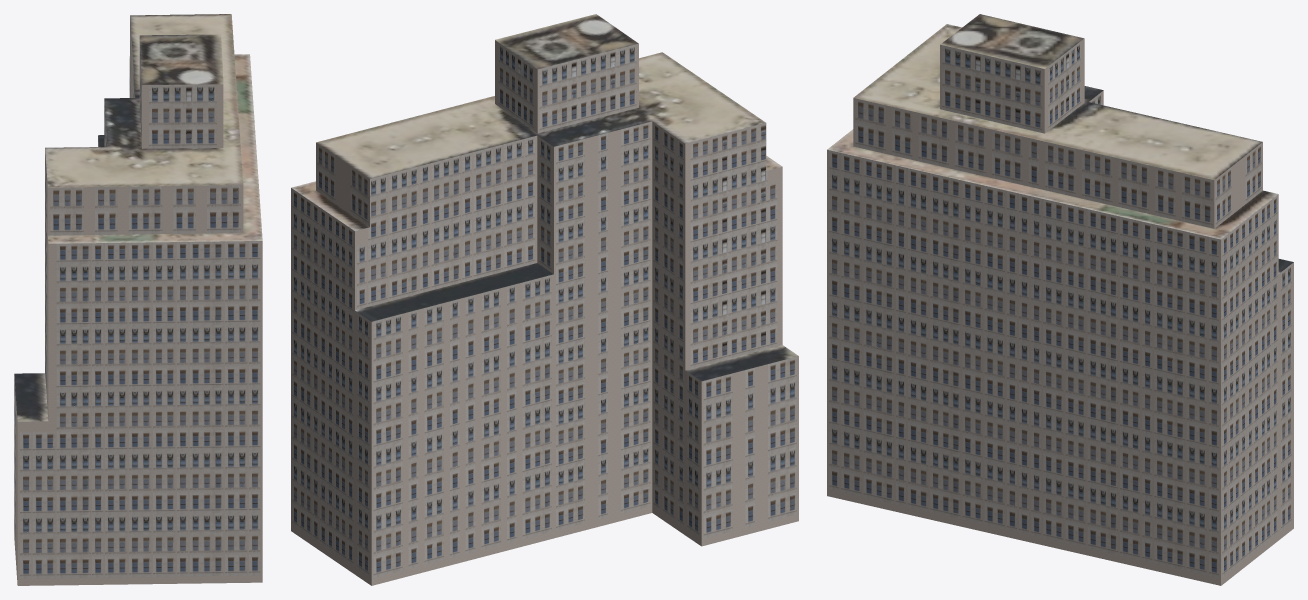
Rendered from building14.fbx.
3 renders of one model, left to right at view 1: azimuth 30°, elevation 25°; view 2: azimuth 150°, elevation 25°; view 3: azimuth 270°, elevation 25°, orthographic.
Parts seen in each view (by area): view 1: Object.1509, geometryt040100010000000110110100010110110100110st100_Wester, geometryt040100010000000110110100010110110100110st99_Westerl; view 2: Object.1509, geometryt040100010000000110110100010110110100110st99_Westerl, geometryt040100010000000110110100010110110100110st100_Wester; view 3: Object.1509, geometryt040100010000000110110100010110110100110st99_Westerl, geometryt040100010000000110110100010110110100110st100_Wester.
Part boxes in pixels (box(x1,y1,x2,y2)): Object.1509: box(14, 16, 260, 578); geometryt040100010000000110110100010110110100110st100_Wester: box(14, 14, 262, 584); geometryt040100010000000110110100010110110100110st99_Westerl: box(14, 46, 262, 585); Object.1509: box(292, 43, 796, 577); geometryt040100010000000110110100010110110100110st99_Westerl: box(291, 40, 798, 585); geometryt040100010000000110110100010110110100110st100_Wester: box(291, 14, 798, 381); Object.1509: box(829, 41, 1291, 577); geometryt040100010000000110110100010110110100110st99_Westerl: box(827, 38, 1293, 585); geometryt040100010000000110110100010110110100110st100_Wester: box(827, 14, 1293, 273).
Bounding box in the file's own units: 5875 × 6900 × 6351.
3 materials, 3 textured.
